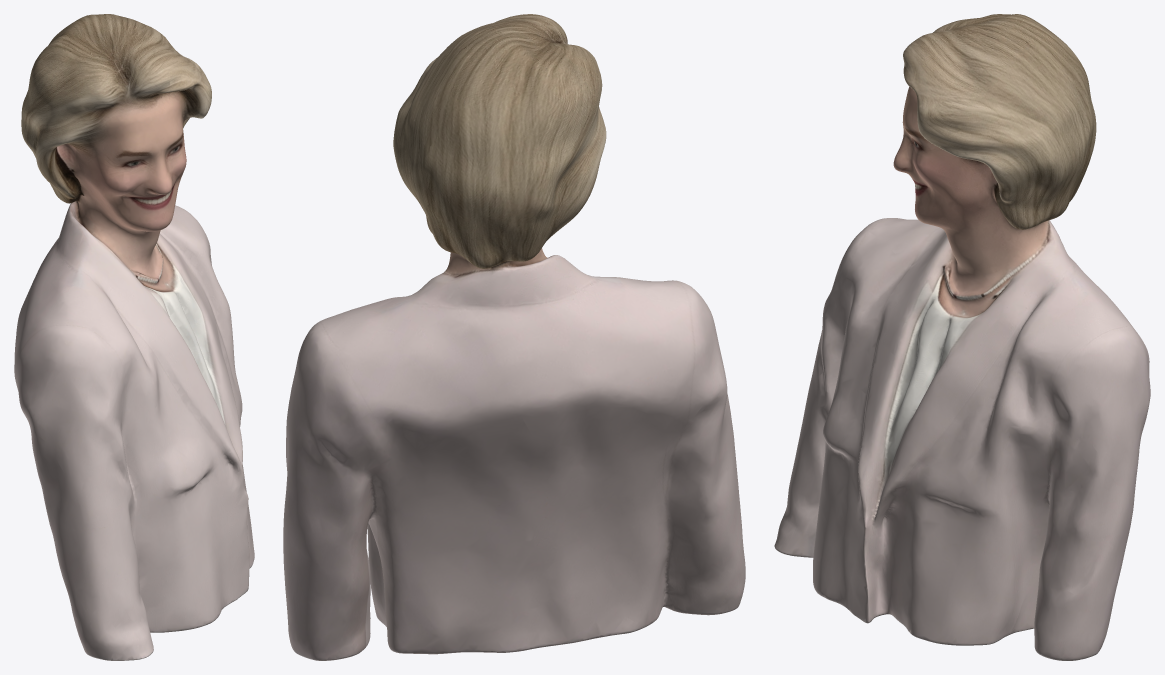
The model's file is Meshy_AI_Radiant_Confidence_compressed.glb.
3 renders of one model, left to right at view 1: azimuth 30°, elevation 25°; view 2: azimuth 150°, elevation 25°; view 3: azimuth 270°, elevation 25°, orthographic. The views are drawn at different scales.
Bounding box in the file's own units: 1.05 × 1.9 × 1.14.
Materials: 1 (1 with a texture image).
